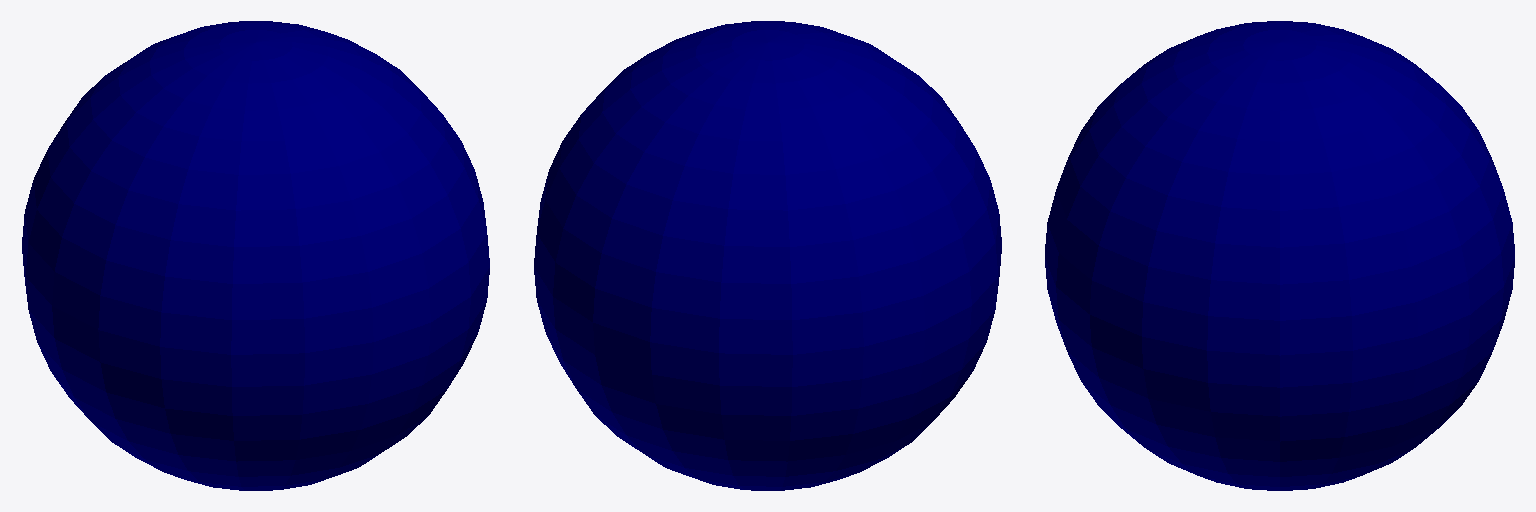
File: particle.obj
3 renders of one model, left to right at view 1: azimuth 30°, elevation 25°; view 2: azimuth 150°, elevation 25°; view 3: azimuth 270°, elevation 25°, orthographic.
Visible parts, largest first — view 1: pSphere1; view 2: pSphere1; view 3: pSphere1.
Boxes of the visible parts, x1=… form: pSphere1: x1=22, y1=21, x2=489, y2=490; pSphere1: x1=534, y1=21, x2=1001, y2=490; pSphere1: x1=1045, y1=21, x2=1514, y2=490.
Size of the model in its own units: 2 by 2 by 2.